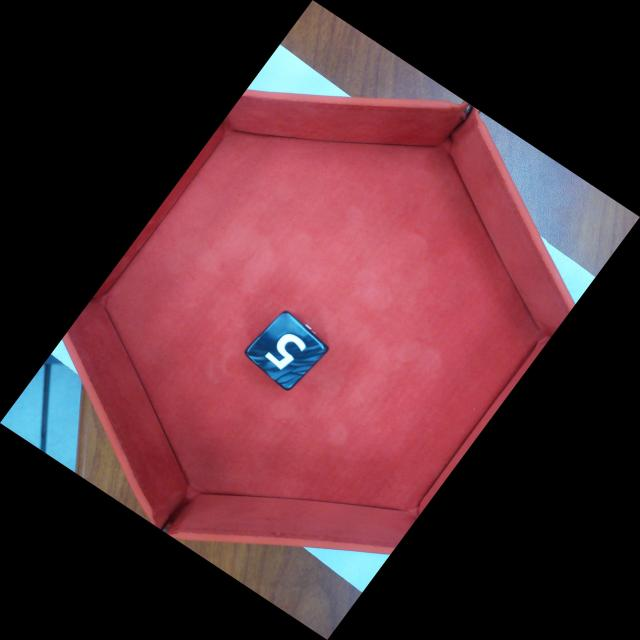dice: (243, 309, 331, 393)
